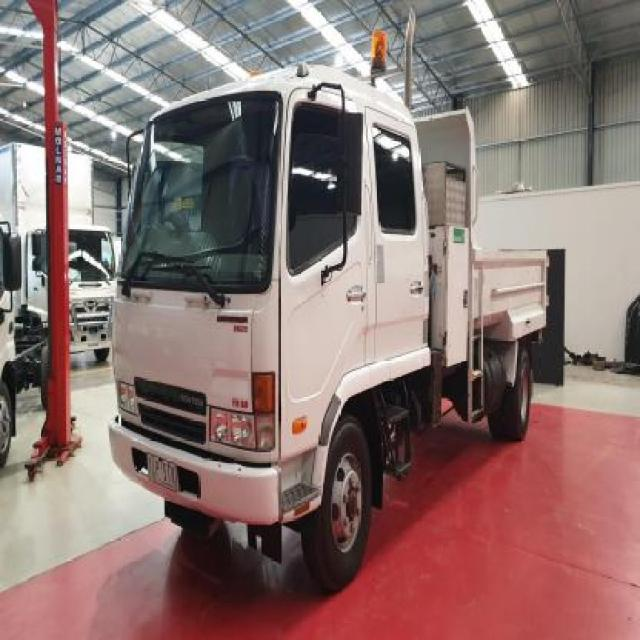truck: (108, 63, 556, 587), (1, 139, 118, 372)
